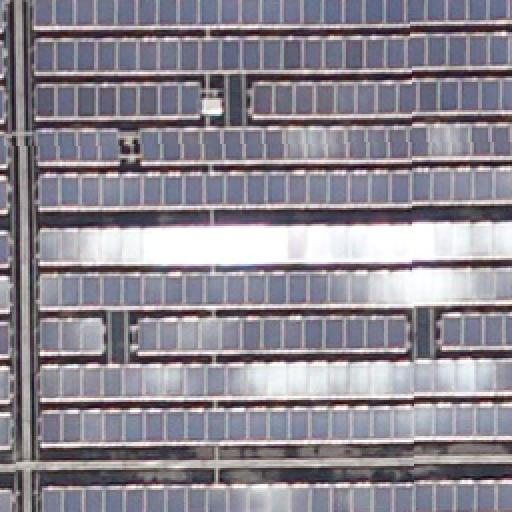solar-panel: (32, 0, 512, 448), (40, 476, 512, 512), (0, 0, 12, 452), (0, 486, 16, 512)
